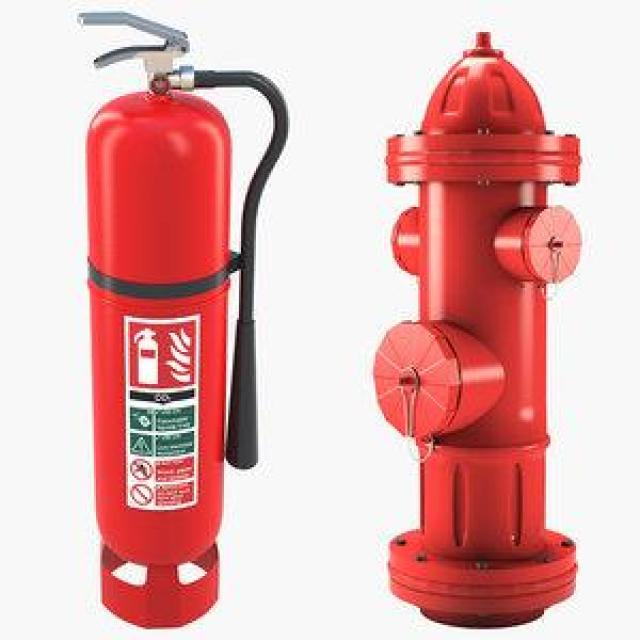Fire-Extinguisher: (74, 8, 289, 630), (383, 18, 583, 628)
